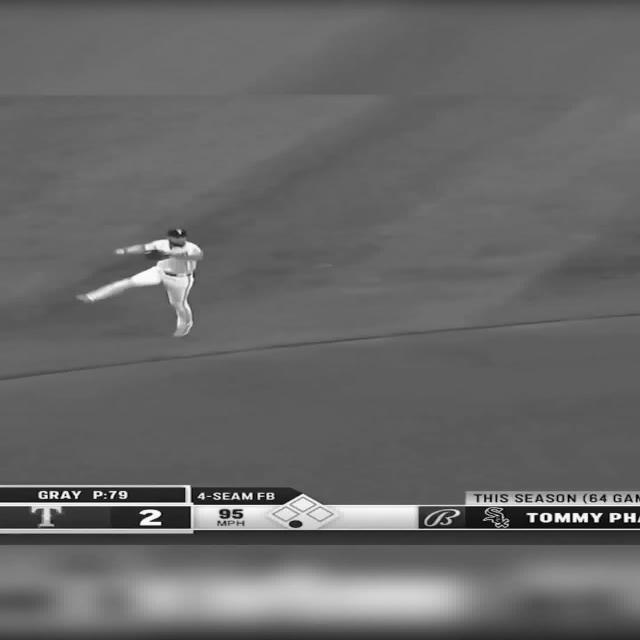baseball_glove: (143, 249, 171, 260)
shoe: (173, 321, 193, 337), (75, 294, 94, 304)
